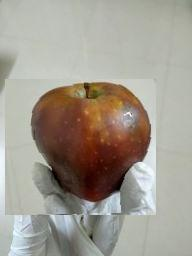Apple Semifresh: (5, 79, 156, 215)
